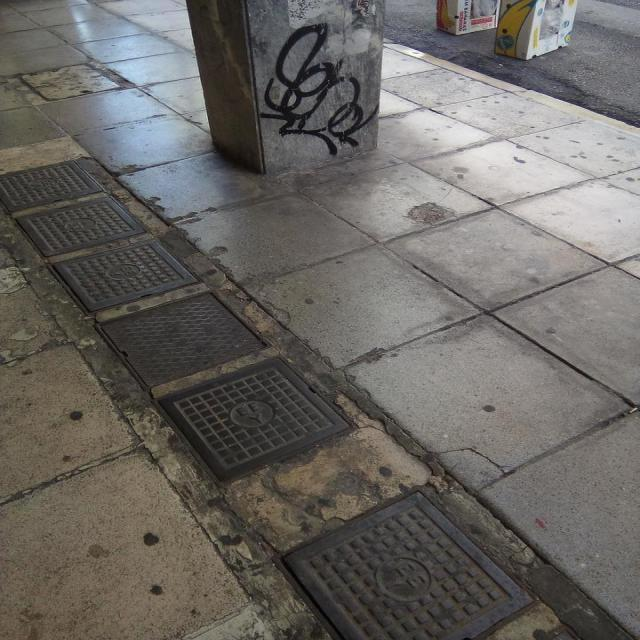nonspitting: (260, 20, 376, 156)
